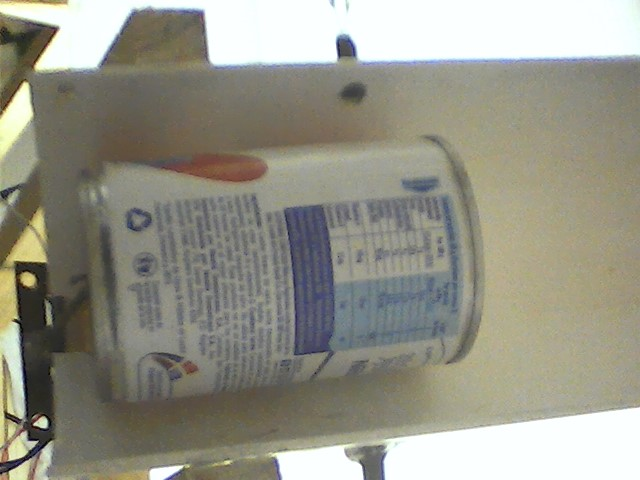lata: (72, 132, 493, 411)
